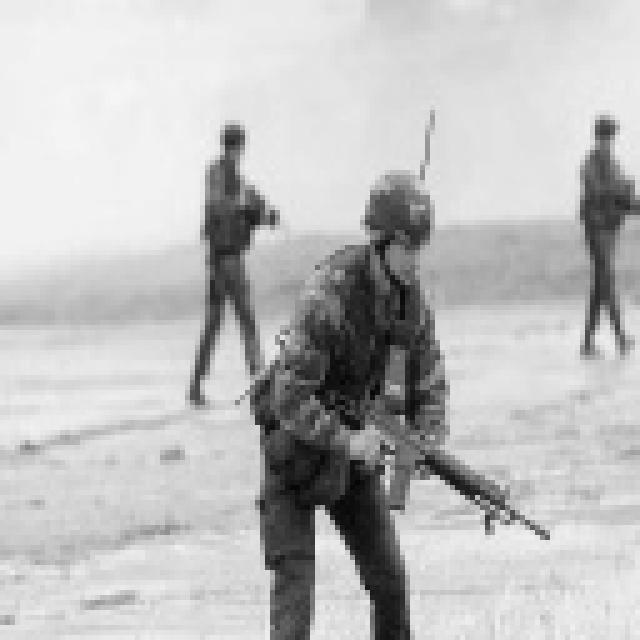Rifle: (293, 360, 563, 573)
